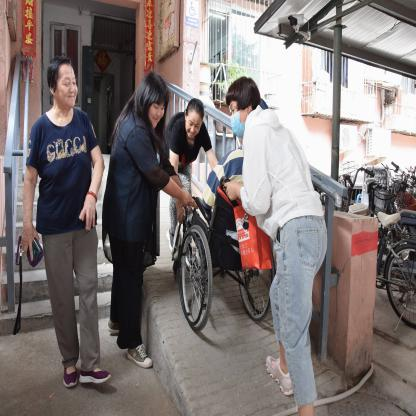wheelchair: (172, 136, 278, 334)
